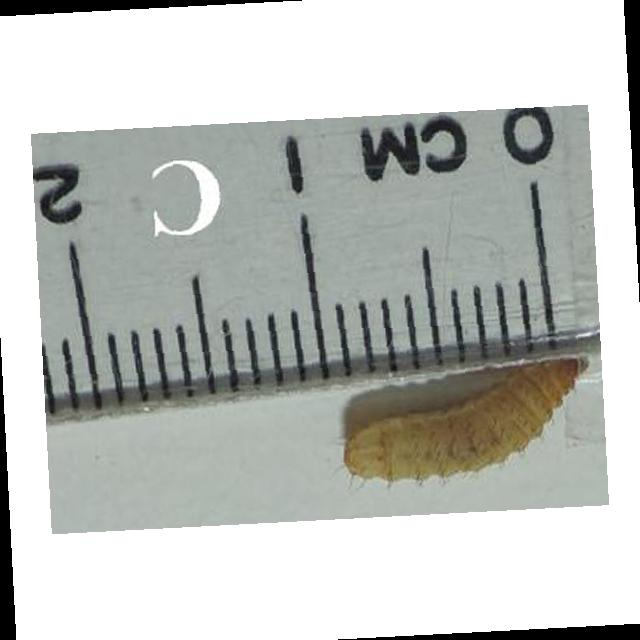Maggot: (341, 354, 597, 496)
